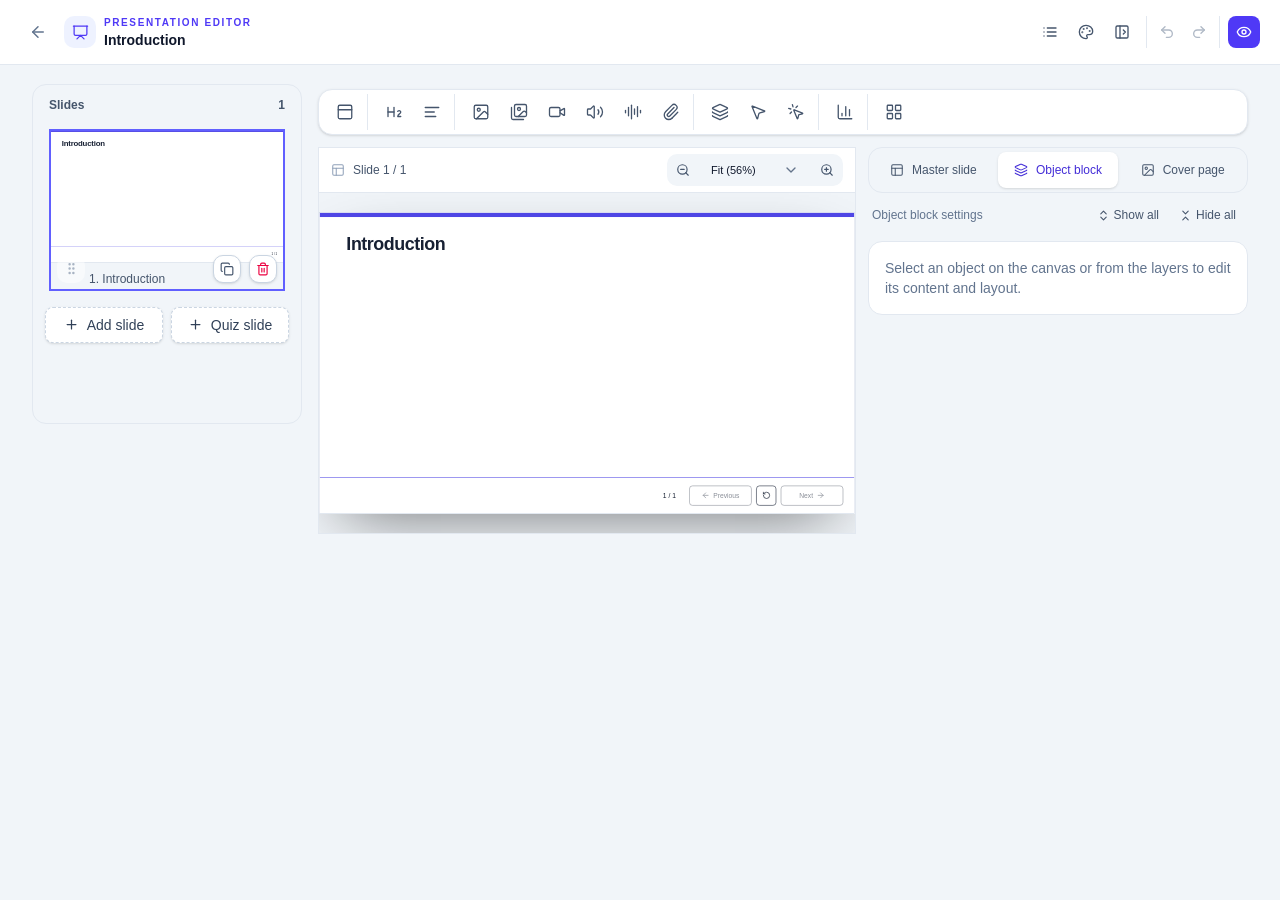
Test case: course outline editing › can undo deletion of the last slide from the presentation overview
The image size is (1280, 900).
Click the button named "Delete slide 1: Introduction": point(263, 269) x1=249 y1=255 x2=277 y2=283
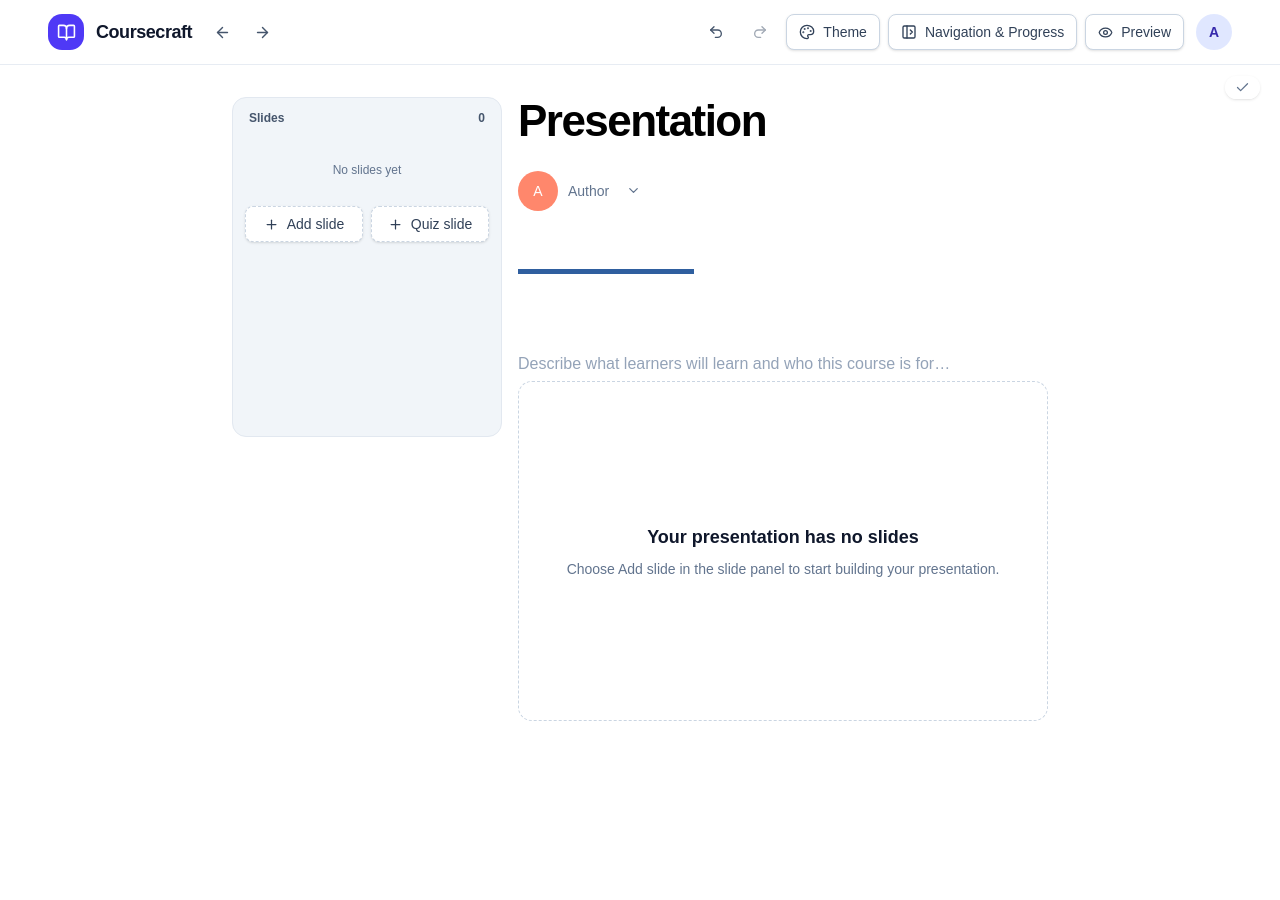
Expected: the text "Your presentation has no slides" is shown, x1=647 y1=527 x2=919 y2=547
Click the button named "Undo": point(716, 32) x1=698 y1=14 x2=734 y2=50
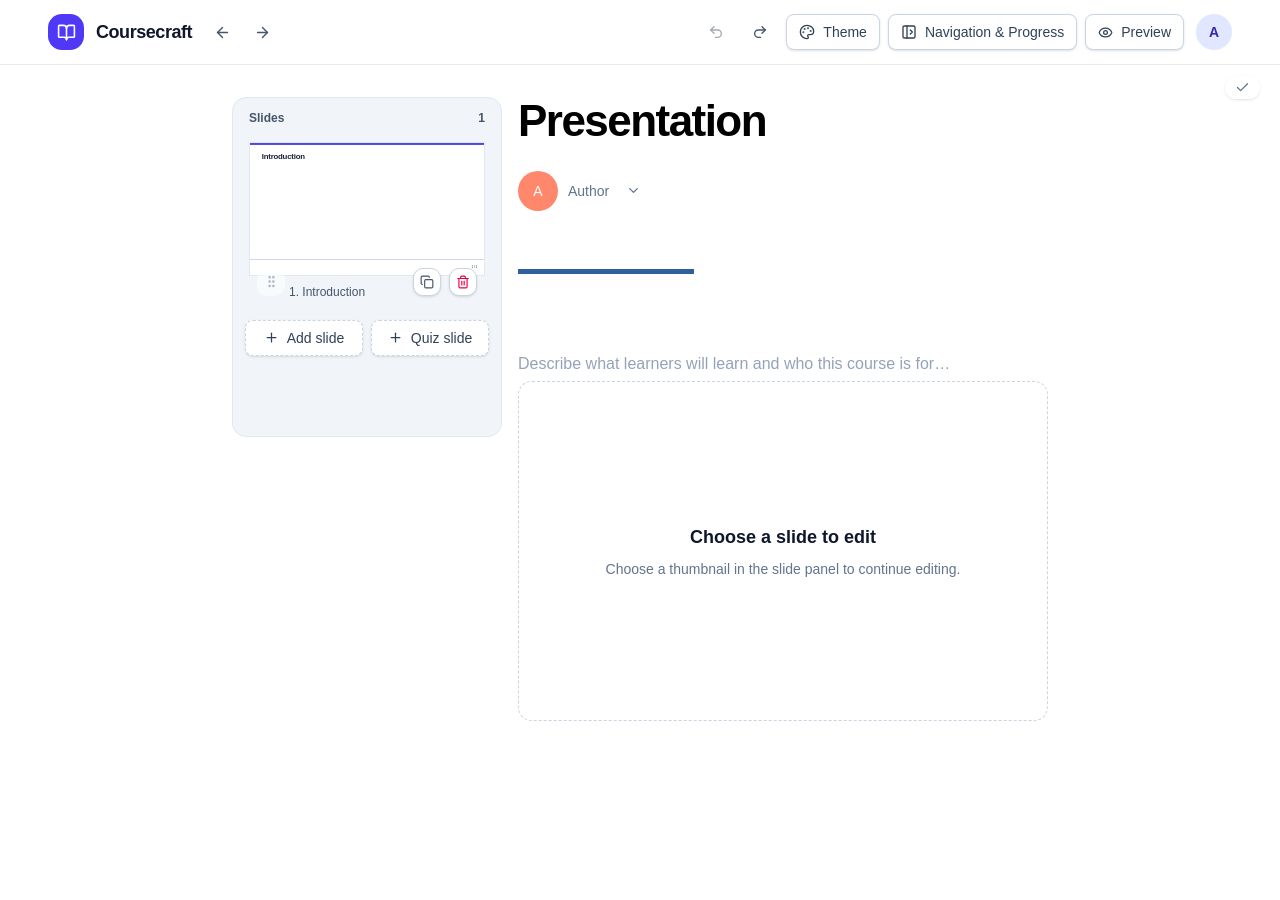
Expected: the button named "Edit slide 1: Introduction" is shown
Click the button named "Edit slide 1: Introduction": point(367, 223) x1=249 y1=142 x2=485 y2=304
Wait 1000 ms
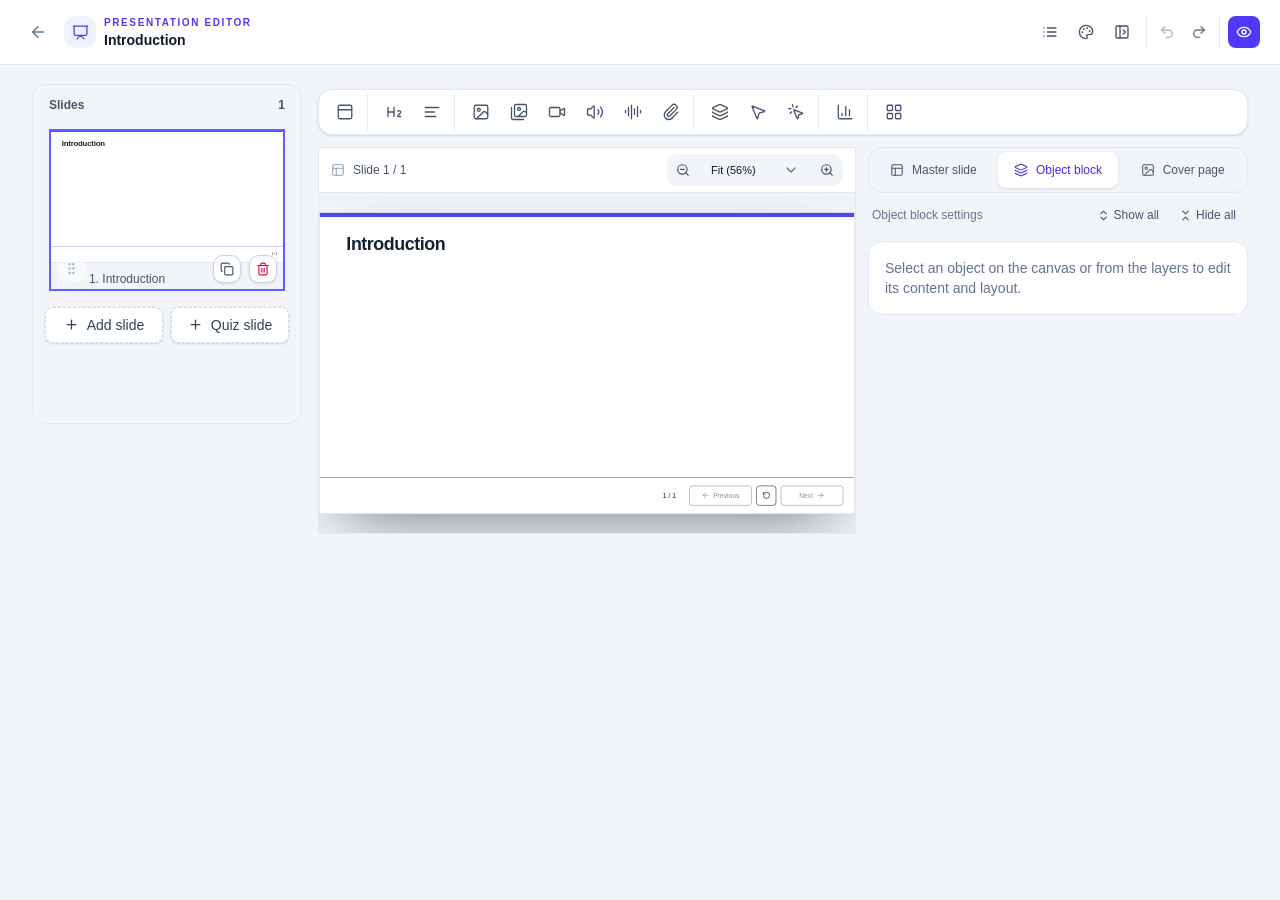
Expected: the field named "Slide title" holds "Introduction", x1=346 y1=233 x2=828 y2=255
